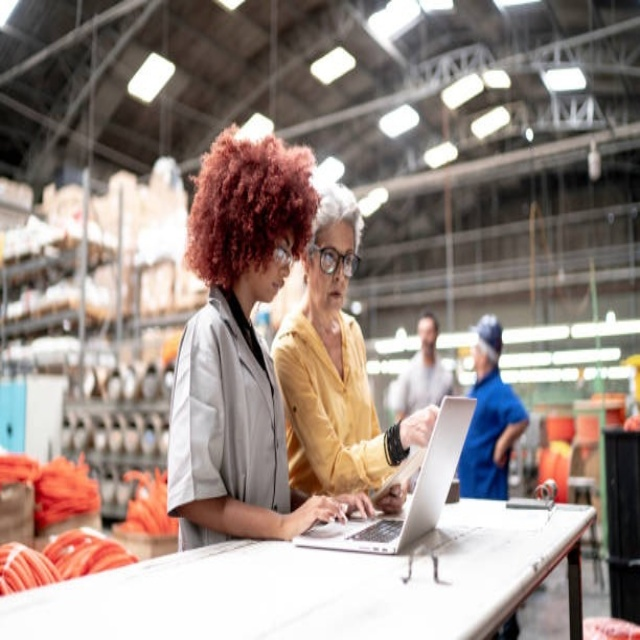Gafas: (308, 242, 361, 279), (273, 246, 295, 273)
Sin_guantes: (285, 488, 384, 543)
Sin_mascara: (260, 273, 290, 306), (320, 282, 346, 309)
